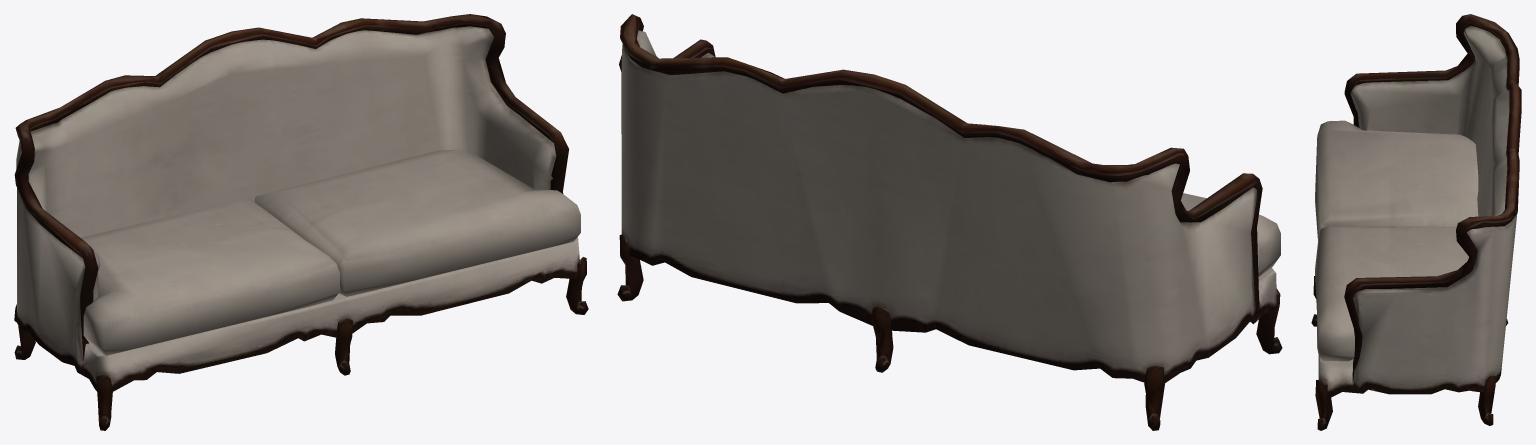
The model's file is hp_room_cc0_sofa.glb.
The picture shows the model from 3 angles, left to right: view 1: azimuth 30°, elevation 25°; view 2: azimuth 150°, elevation 25°; view 3: azimuth 270°, elevation 25°; orthographic projection. The views are drawn at different scales.
Parts seen in each view (by area): view 1: Sofa_01; view 2: Sofa_01; view 3: Sofa_01.
Boxes of the visible parts, bbox=[...] form: Sofa_01: bbox=[14, 14, 588, 430]; Sofa_01: bbox=[617, 14, 1282, 430]; Sofa_01: bbox=[1311, 14, 1521, 430].
Bounding box in the file's own units: 1.57 × 0.7954 × 0.6568.
Materials: 1 (1 with a texture image).
